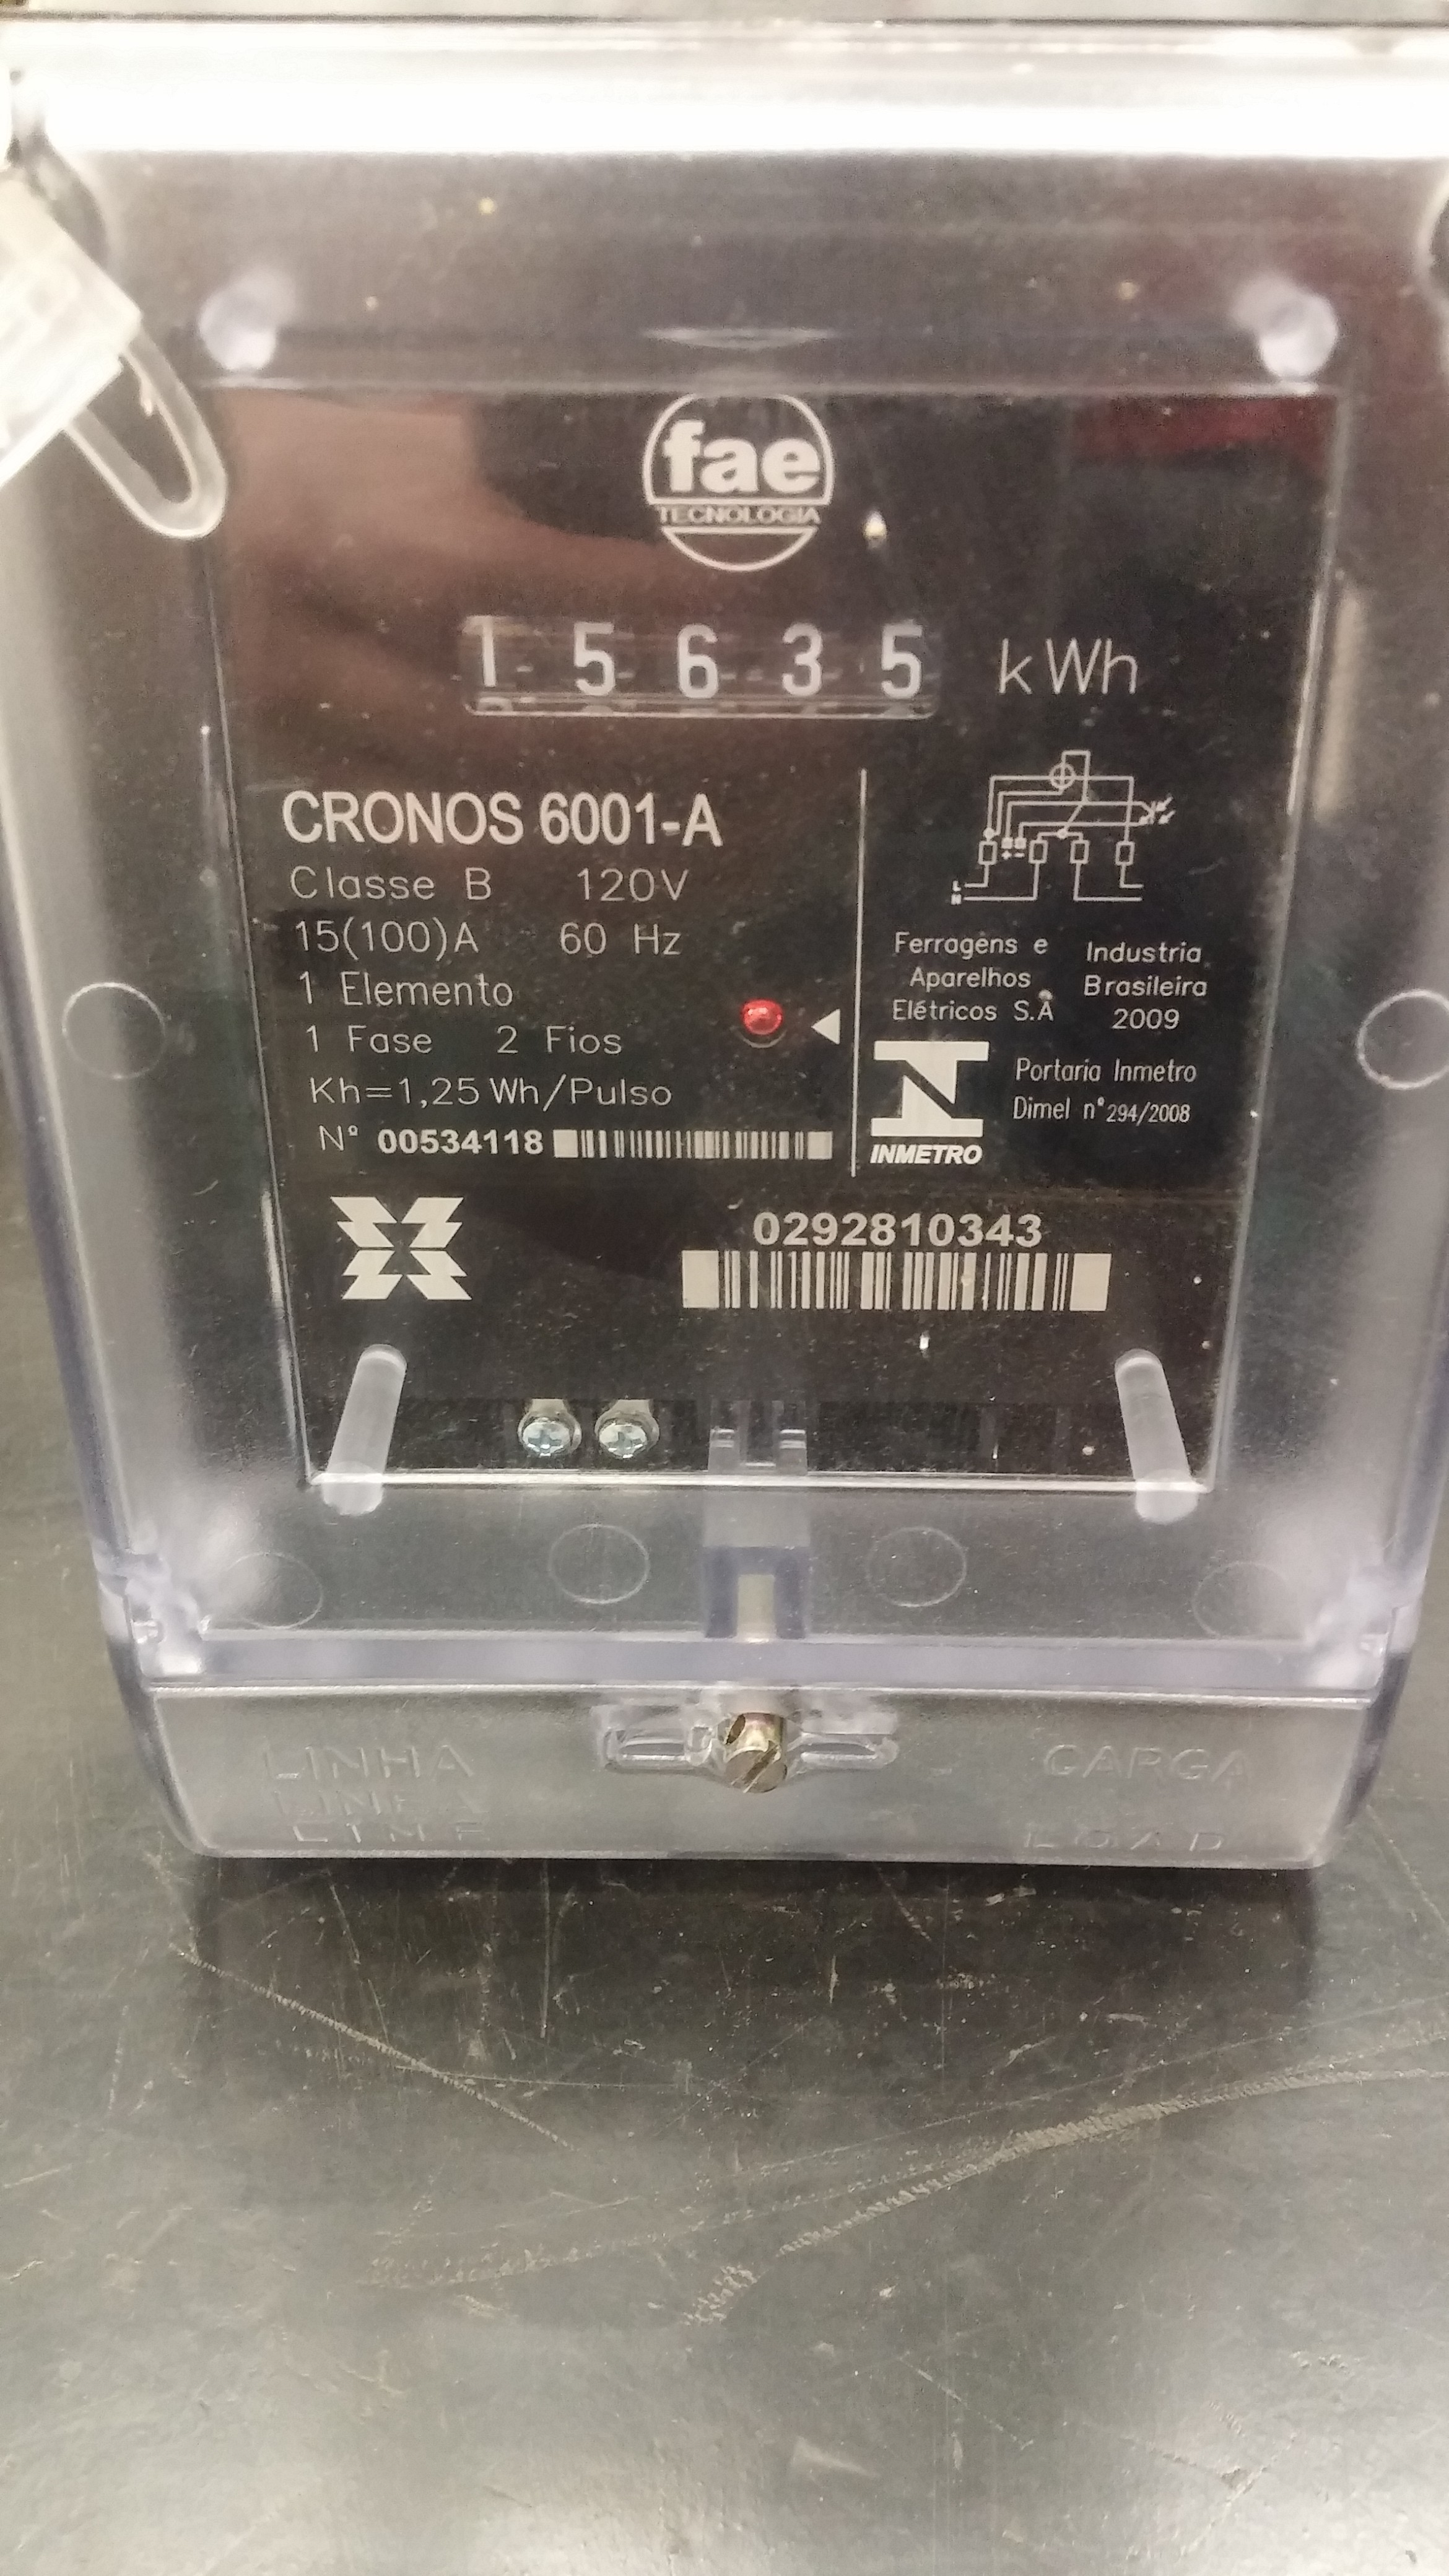counter1: (442, 594, 957, 747)
